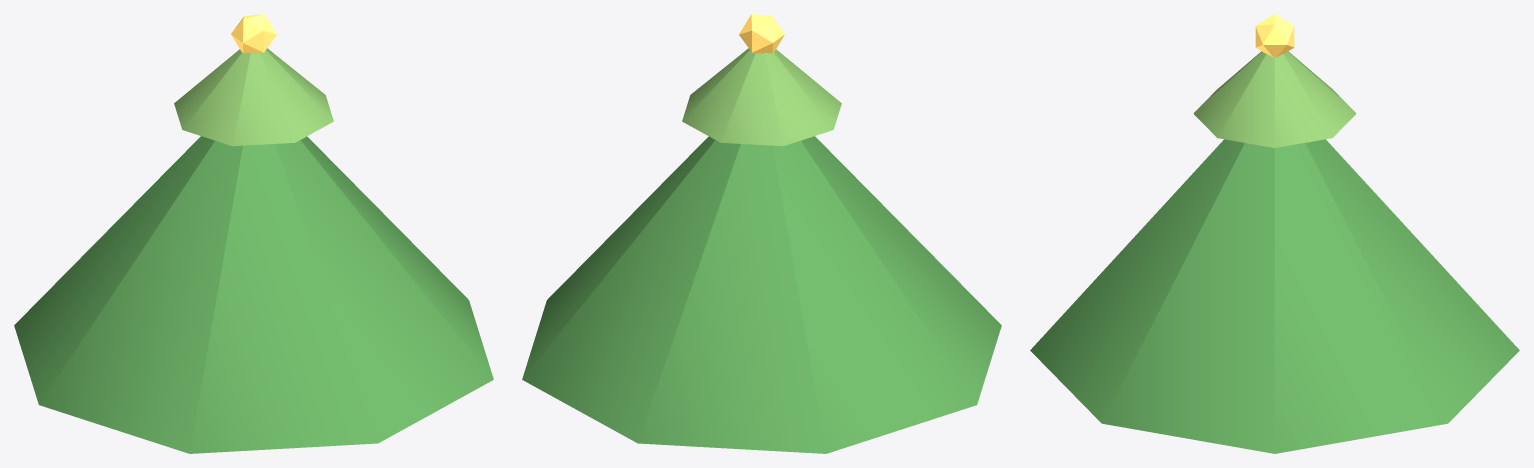
File: roofCone.glb
3 renders of one model, left to right at view 1: azimuth 30°, elevation 25°; view 2: azimuth 150°, elevation 25°; view 3: azimuth 270°, elevation 25°, orthographic.
Size of the model in its own units: 3 by 2.24 by 3.
